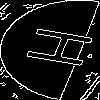H: (25, 25, 100, 72)
